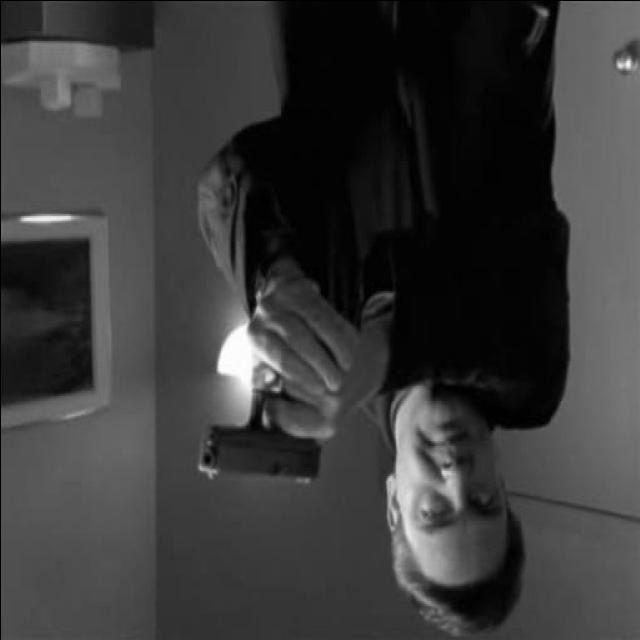weapons: (185, 296, 342, 524)
